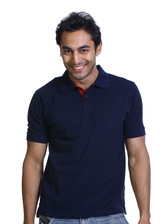clothoes: (20, 66, 153, 219)
